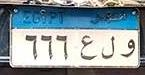6: (23, 33, 39, 61), (56, 32, 70, 63), (39, 34, 54, 62)
ain: (78, 34, 98, 63)
laam: (100, 34, 115, 61)
waw: (120, 37, 136, 60)
